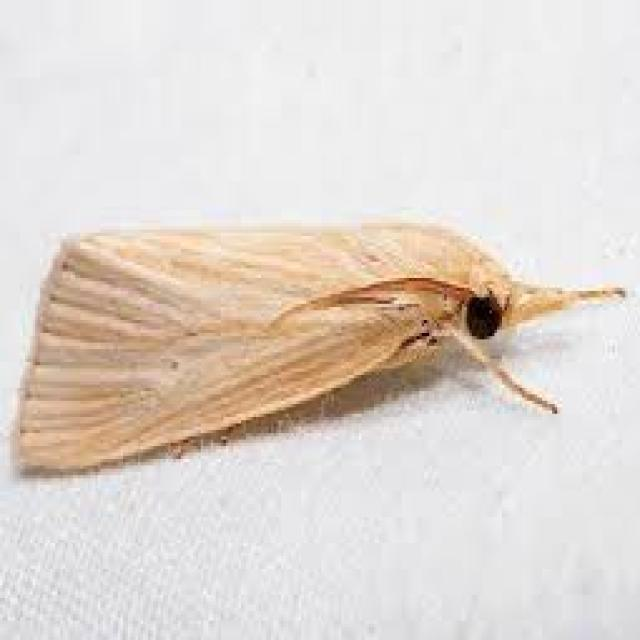yellow-stem-borer: (14, 154, 630, 511)
